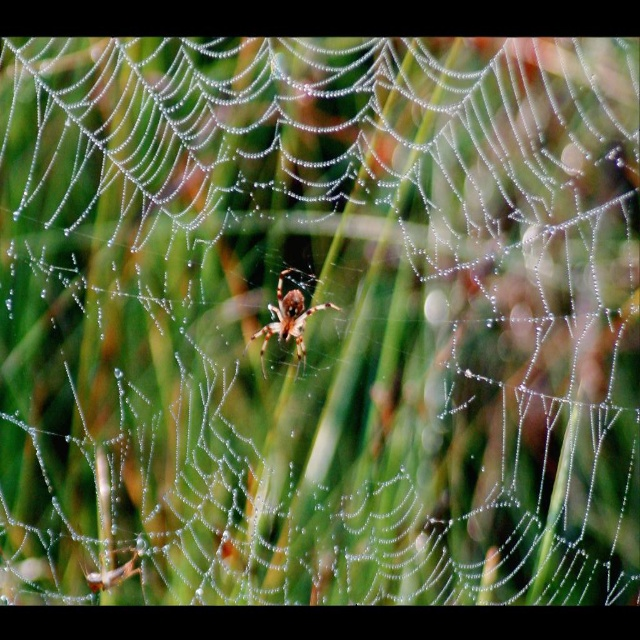Spider: (242, 268, 345, 383)
